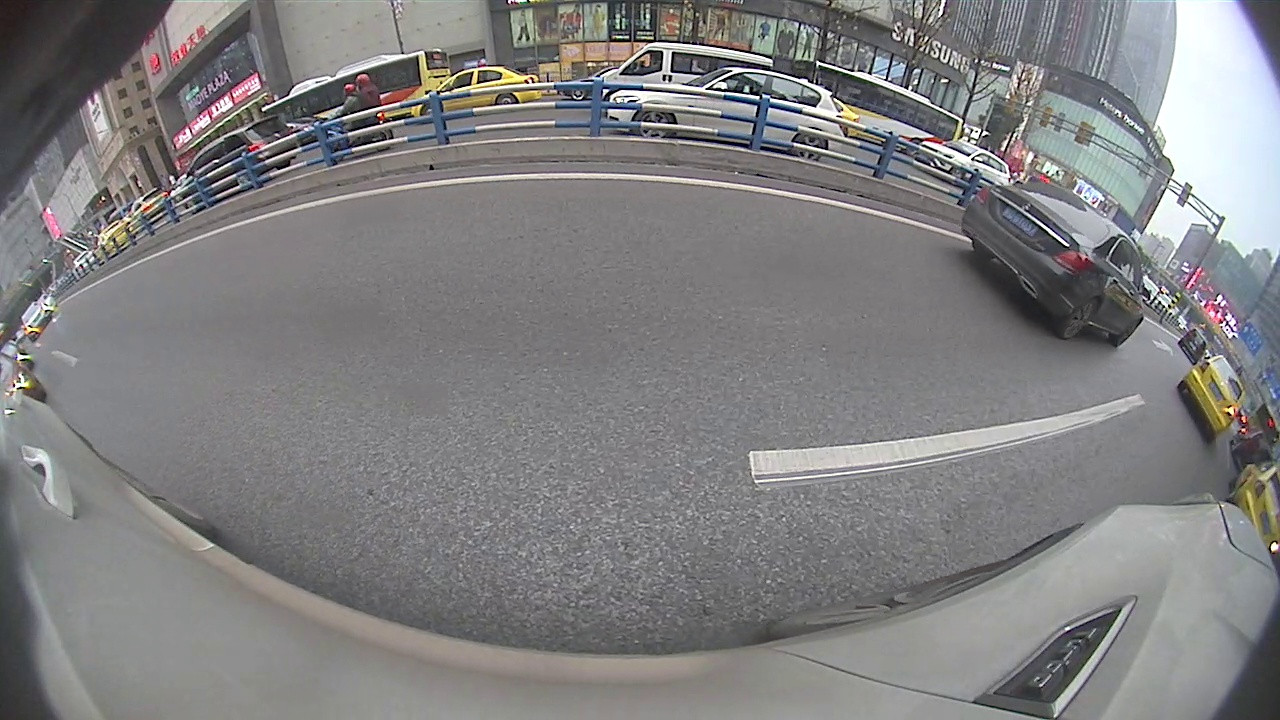car: (957, 178, 1147, 350), (604, 65, 852, 164), (174, 111, 301, 215), (410, 57, 545, 125), (1175, 352, 1245, 446)
front: (633, 107, 675, 139)
rear: (1057, 296, 1099, 339), (793, 130, 827, 161), (496, 93, 515, 112)
rider: (315, 72, 396, 165)
